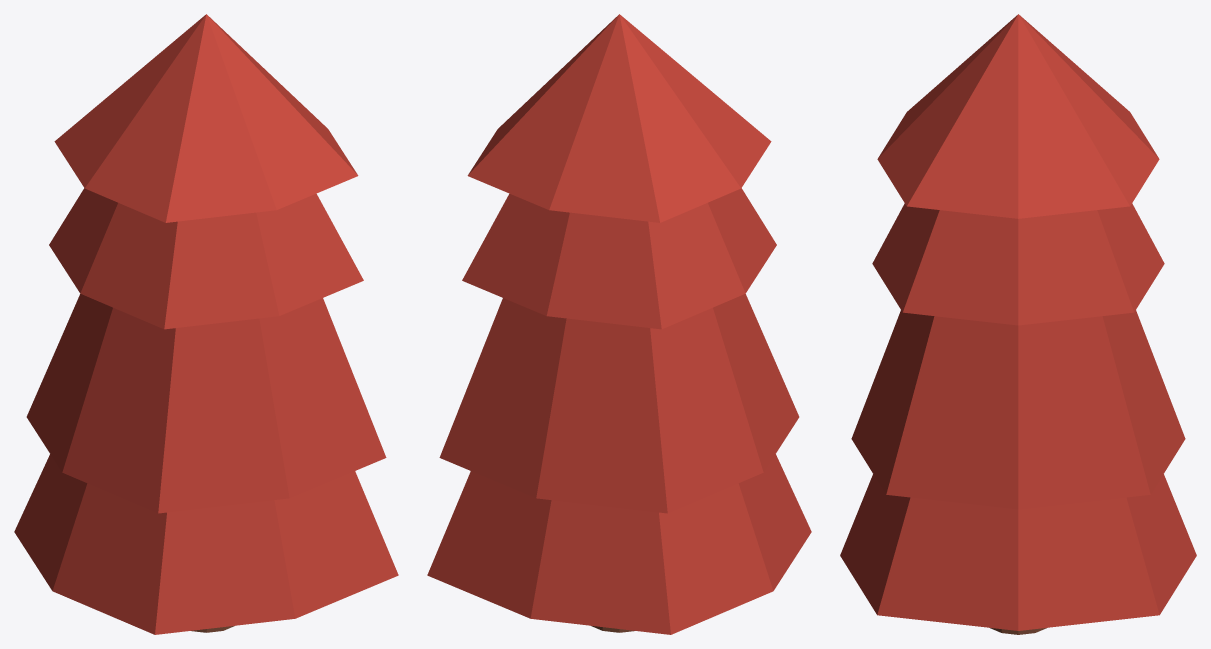
Rendered from Tree_22_summer_red_mat.fbx.
3 renders of one model, left to right at view 1: azimuth 30°, elevation 25°; view 2: azimuth 150°, elevation 25°; view 3: azimuth 270°, elevation 25°, orthographic.
Visible parts, largest first — view 1: Tree_22_summer_red_mat; view 2: Tree_22_summer_red_mat; view 3: Tree_22_summer_red_mat.
Part boxes in pixels (x1,y1,x2,y2): Tree_22_summer_red_mat: [14, 14, 398, 634]; Tree_22_summer_red_mat: [427, 14, 811, 634]; Tree_22_summer_red_mat: [840, 14, 1196, 634].
Size of the model in its own units: 82.75 by 155 by 82.75.
